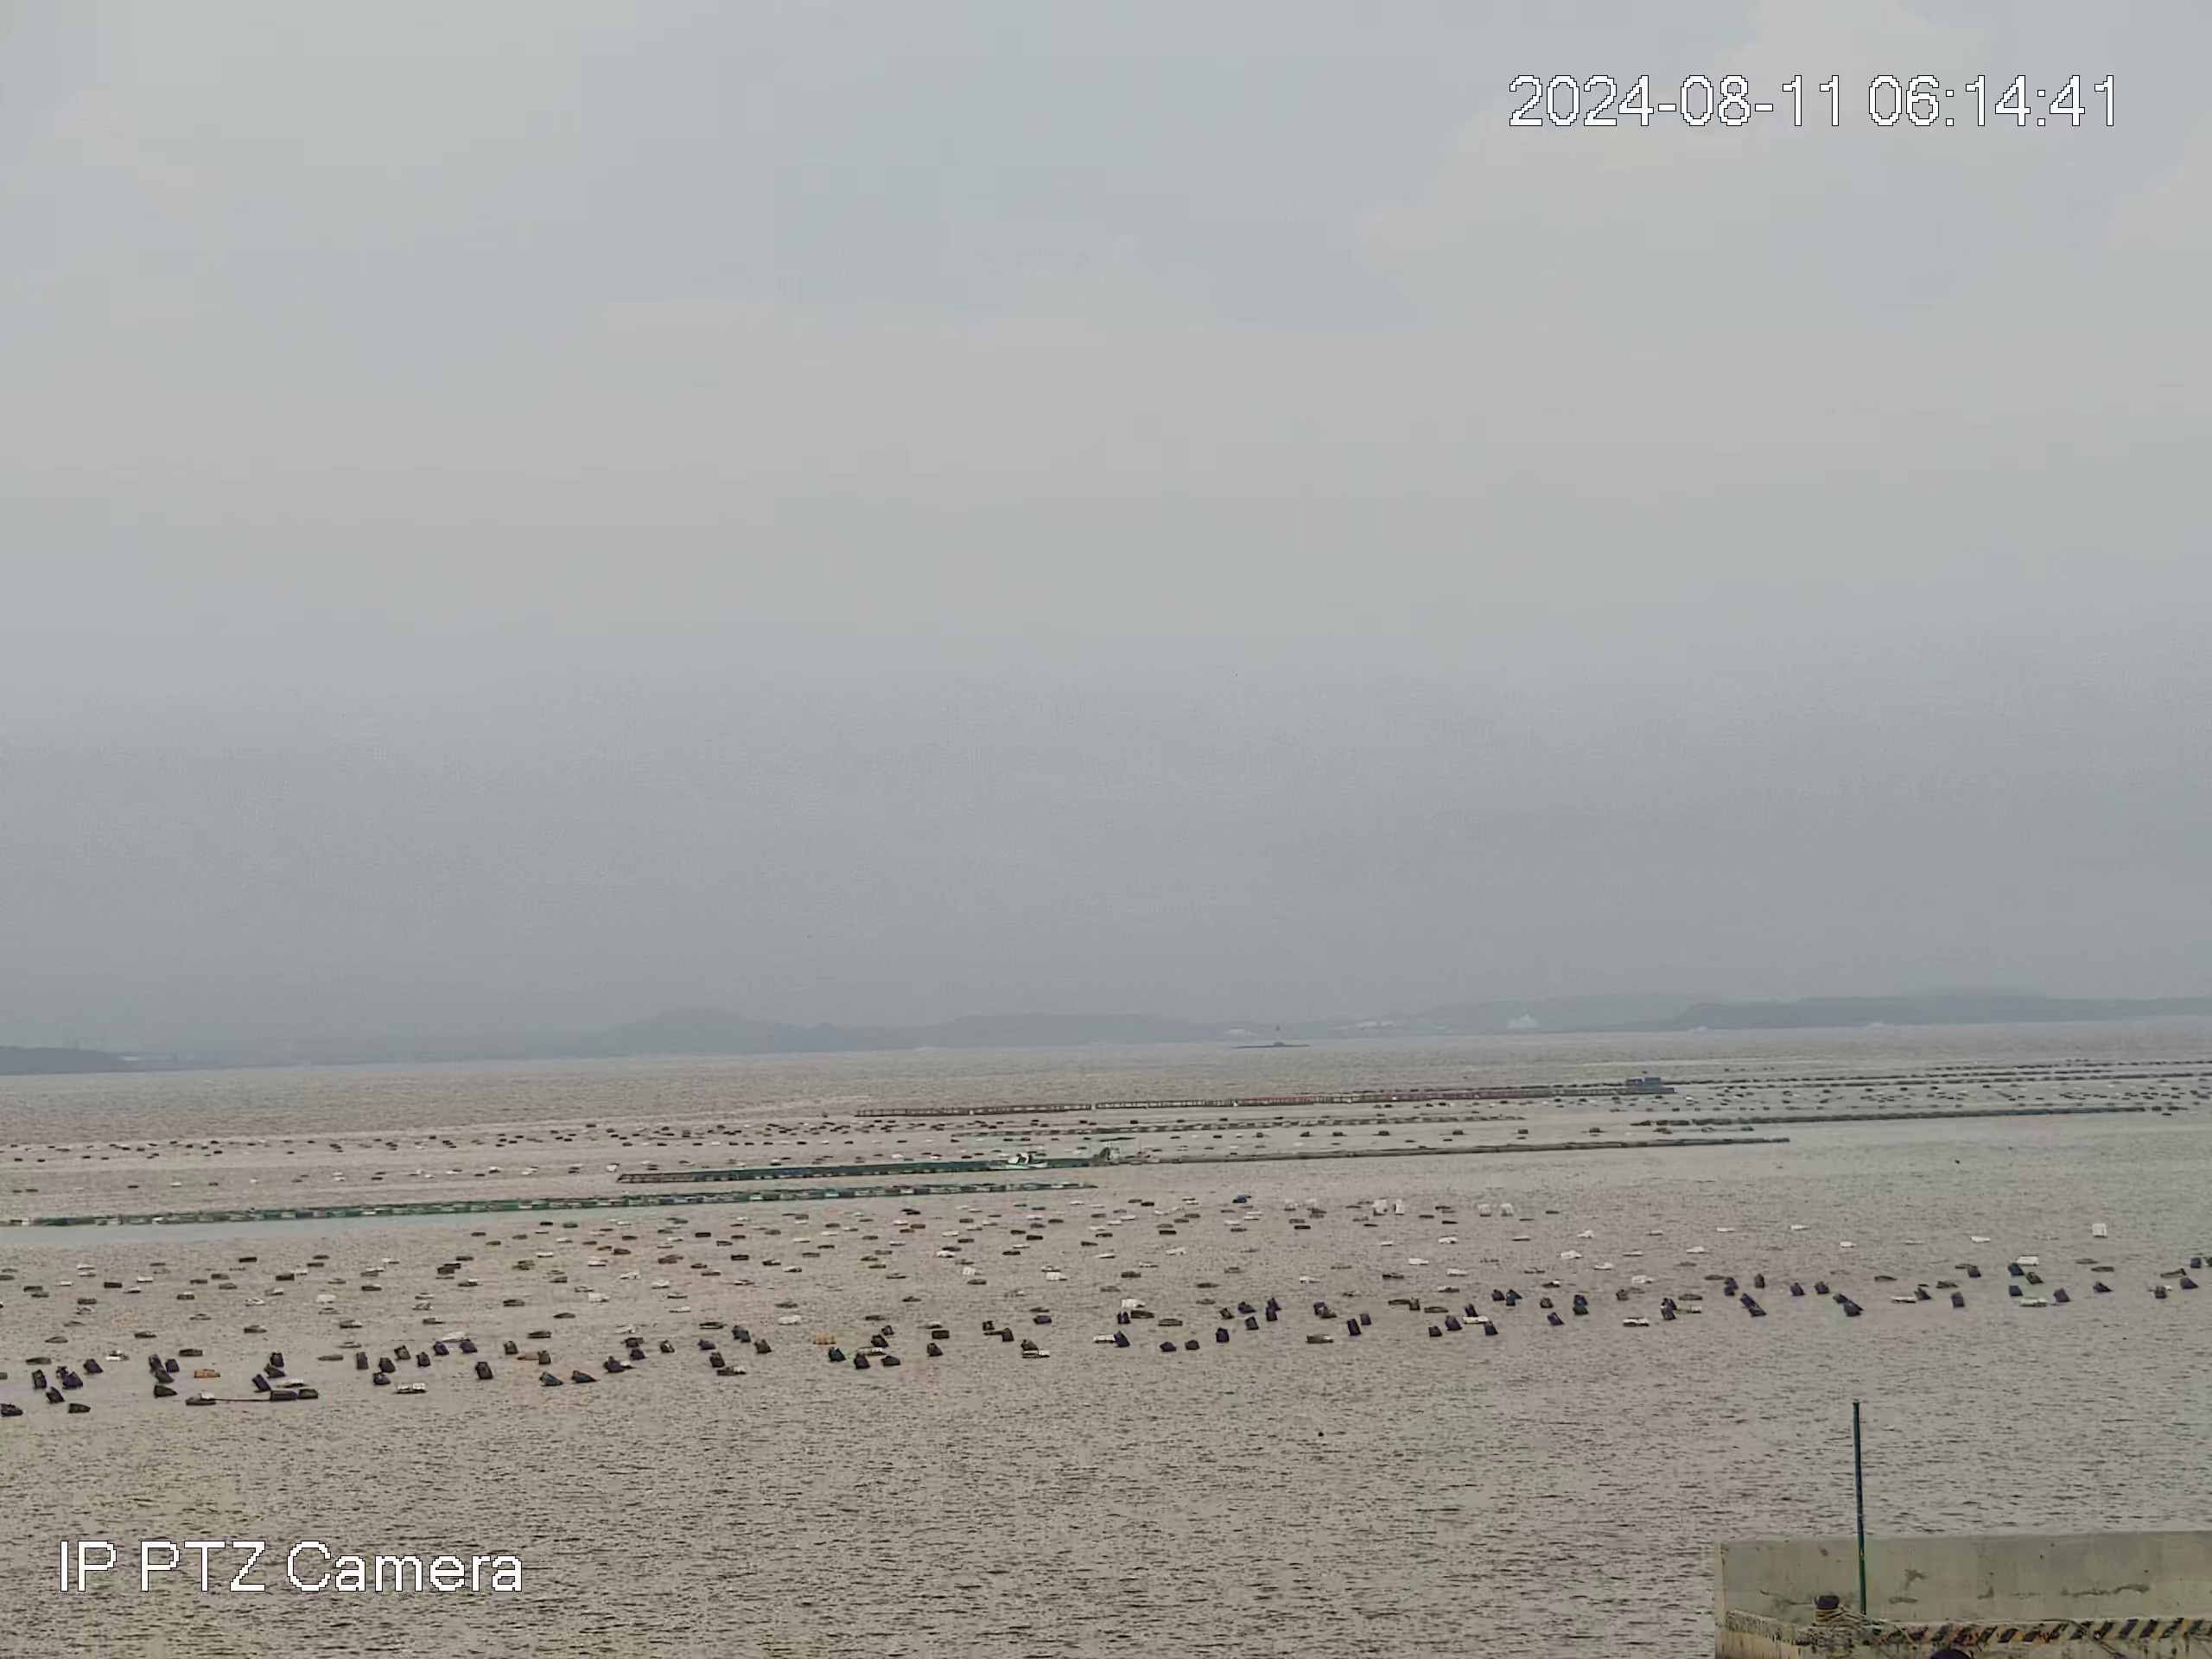boat: (984, 1150, 1050, 1171)
